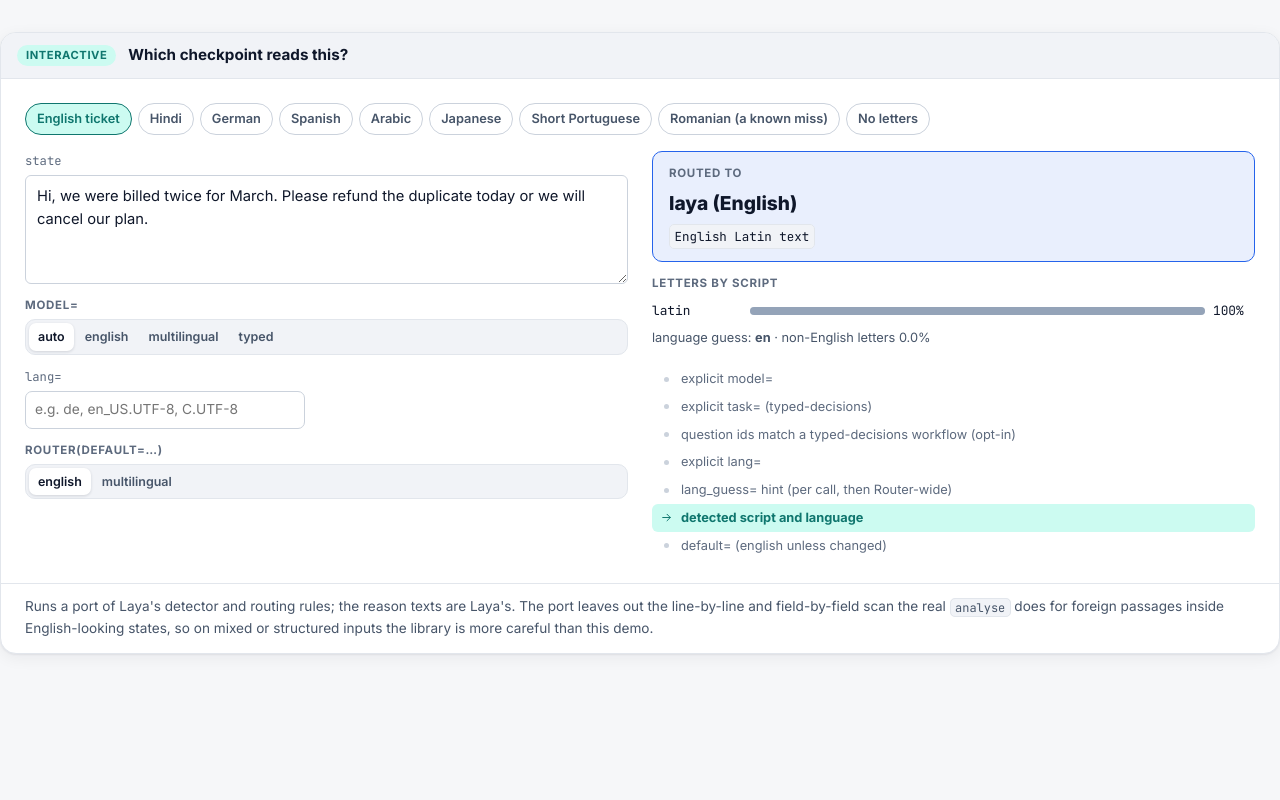
Test: RouterDemo › lets an explicit model win over detection
Step 1. Click the radio button labelled "typed" → (256, 337), box [230,323,282,350]
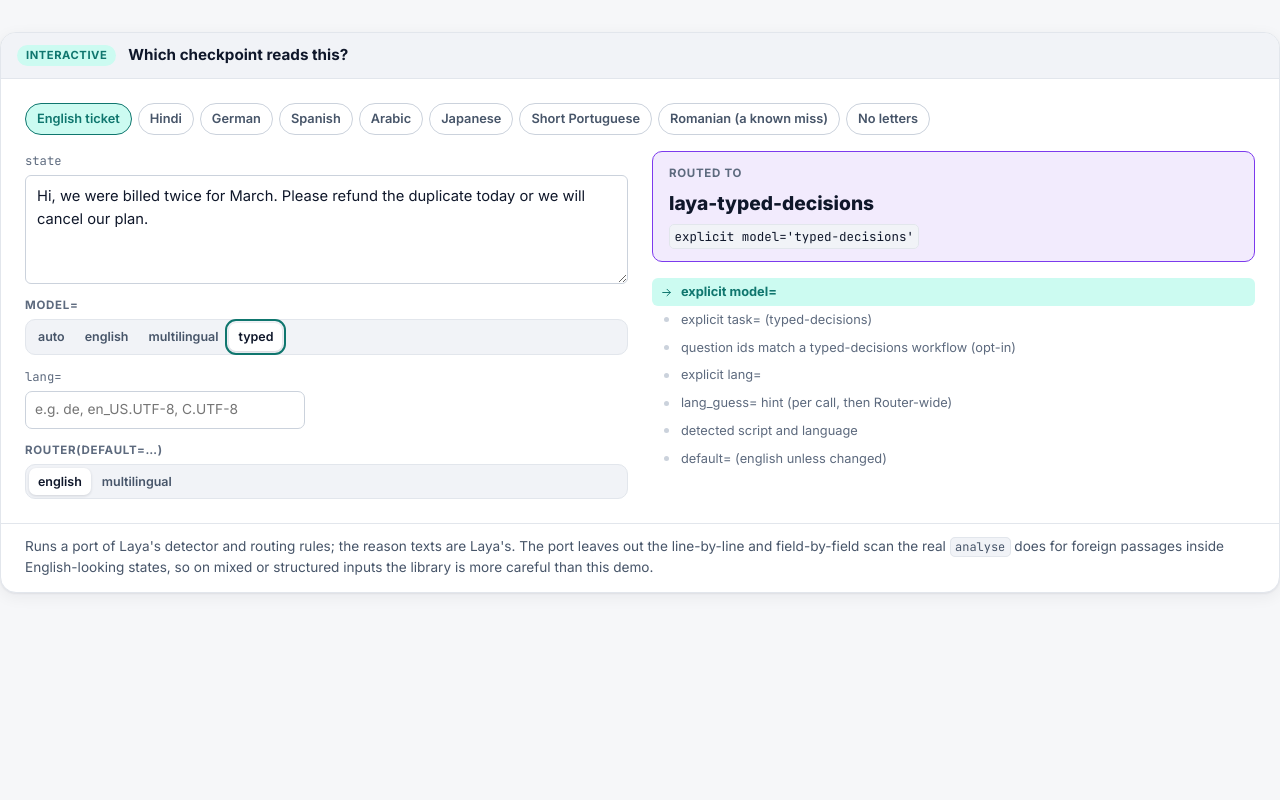
Result: the text "explicit model='typed-decisions'" is shown at [669,224,919,249]
